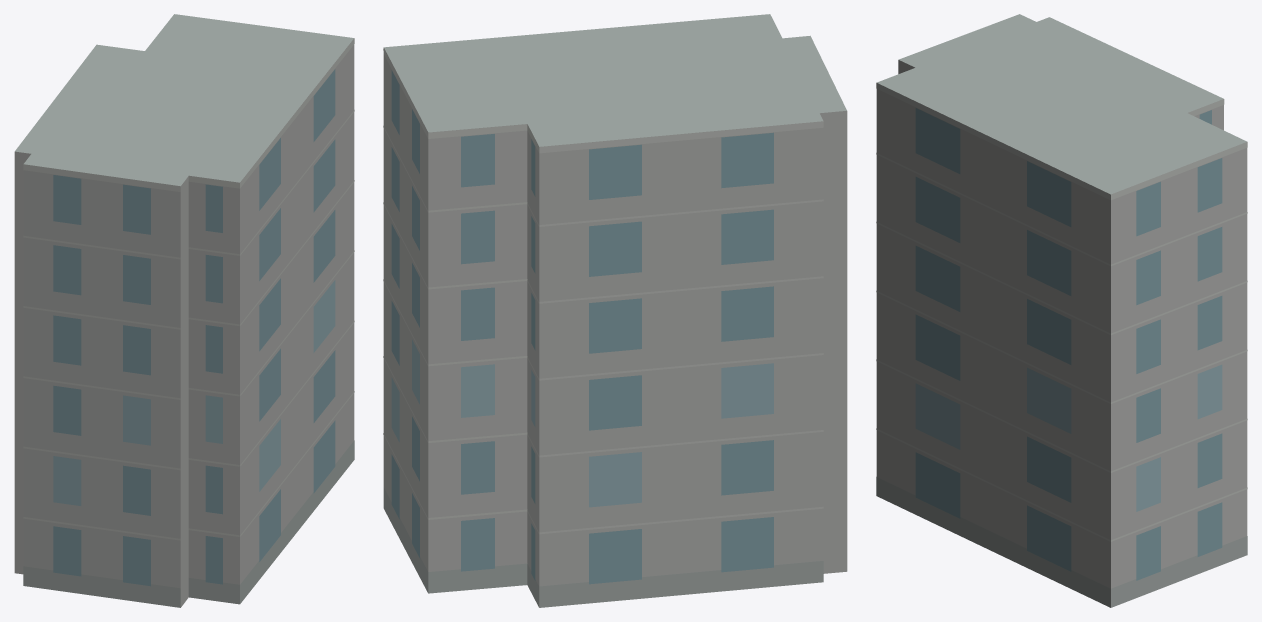
File: survey-upis-32988887.glb
3 renders of one model, left to right at view 1: azimuth 30°, elevation 25°; view 2: azimuth 150°, elevation 25°; view 3: azimuth 270°, elevation 25°, orthographic. The views are drawn at different scales.
Parts seen in each view (by area): view 1: survey-upis-32988887.tmp; view 2: survey-upis-32988887.tmp; view 3: survey-upis-32988887.tmp.
Part boxes in pixels (box(x1,y1,x2,y2)): survey-upis-32988887.tmp: box(14, 14, 354, 607); survey-upis-32988887.tmp: box(383, 14, 847, 607); survey-upis-32988887.tmp: box(876, 14, 1247, 607).
Size of the model in its own units: 16.13 by 17.2 by 14.01.
